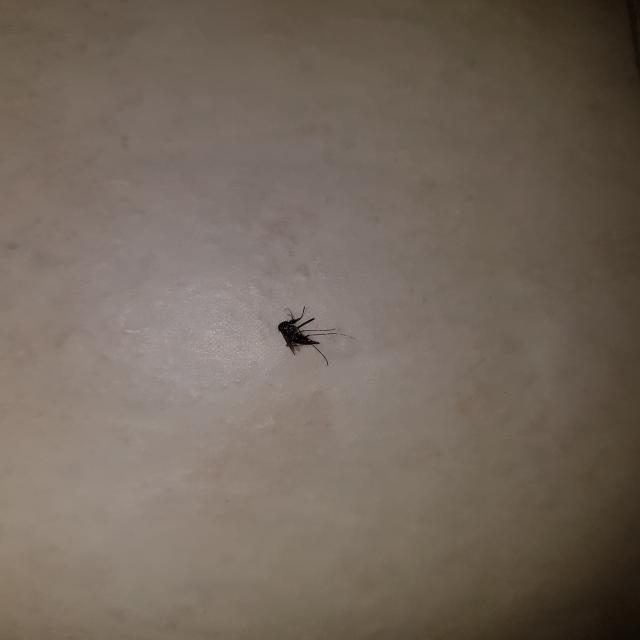albopictus: (267, 300, 355, 368)
